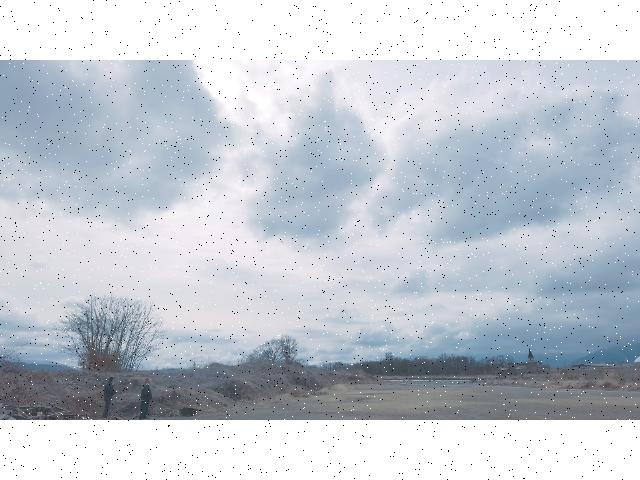Anti-Drone: (277, 236, 285, 248)
